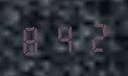eight: (18, 22, 47, 56)
four: (49, 20, 78, 55)
two: (79, 19, 108, 53)
